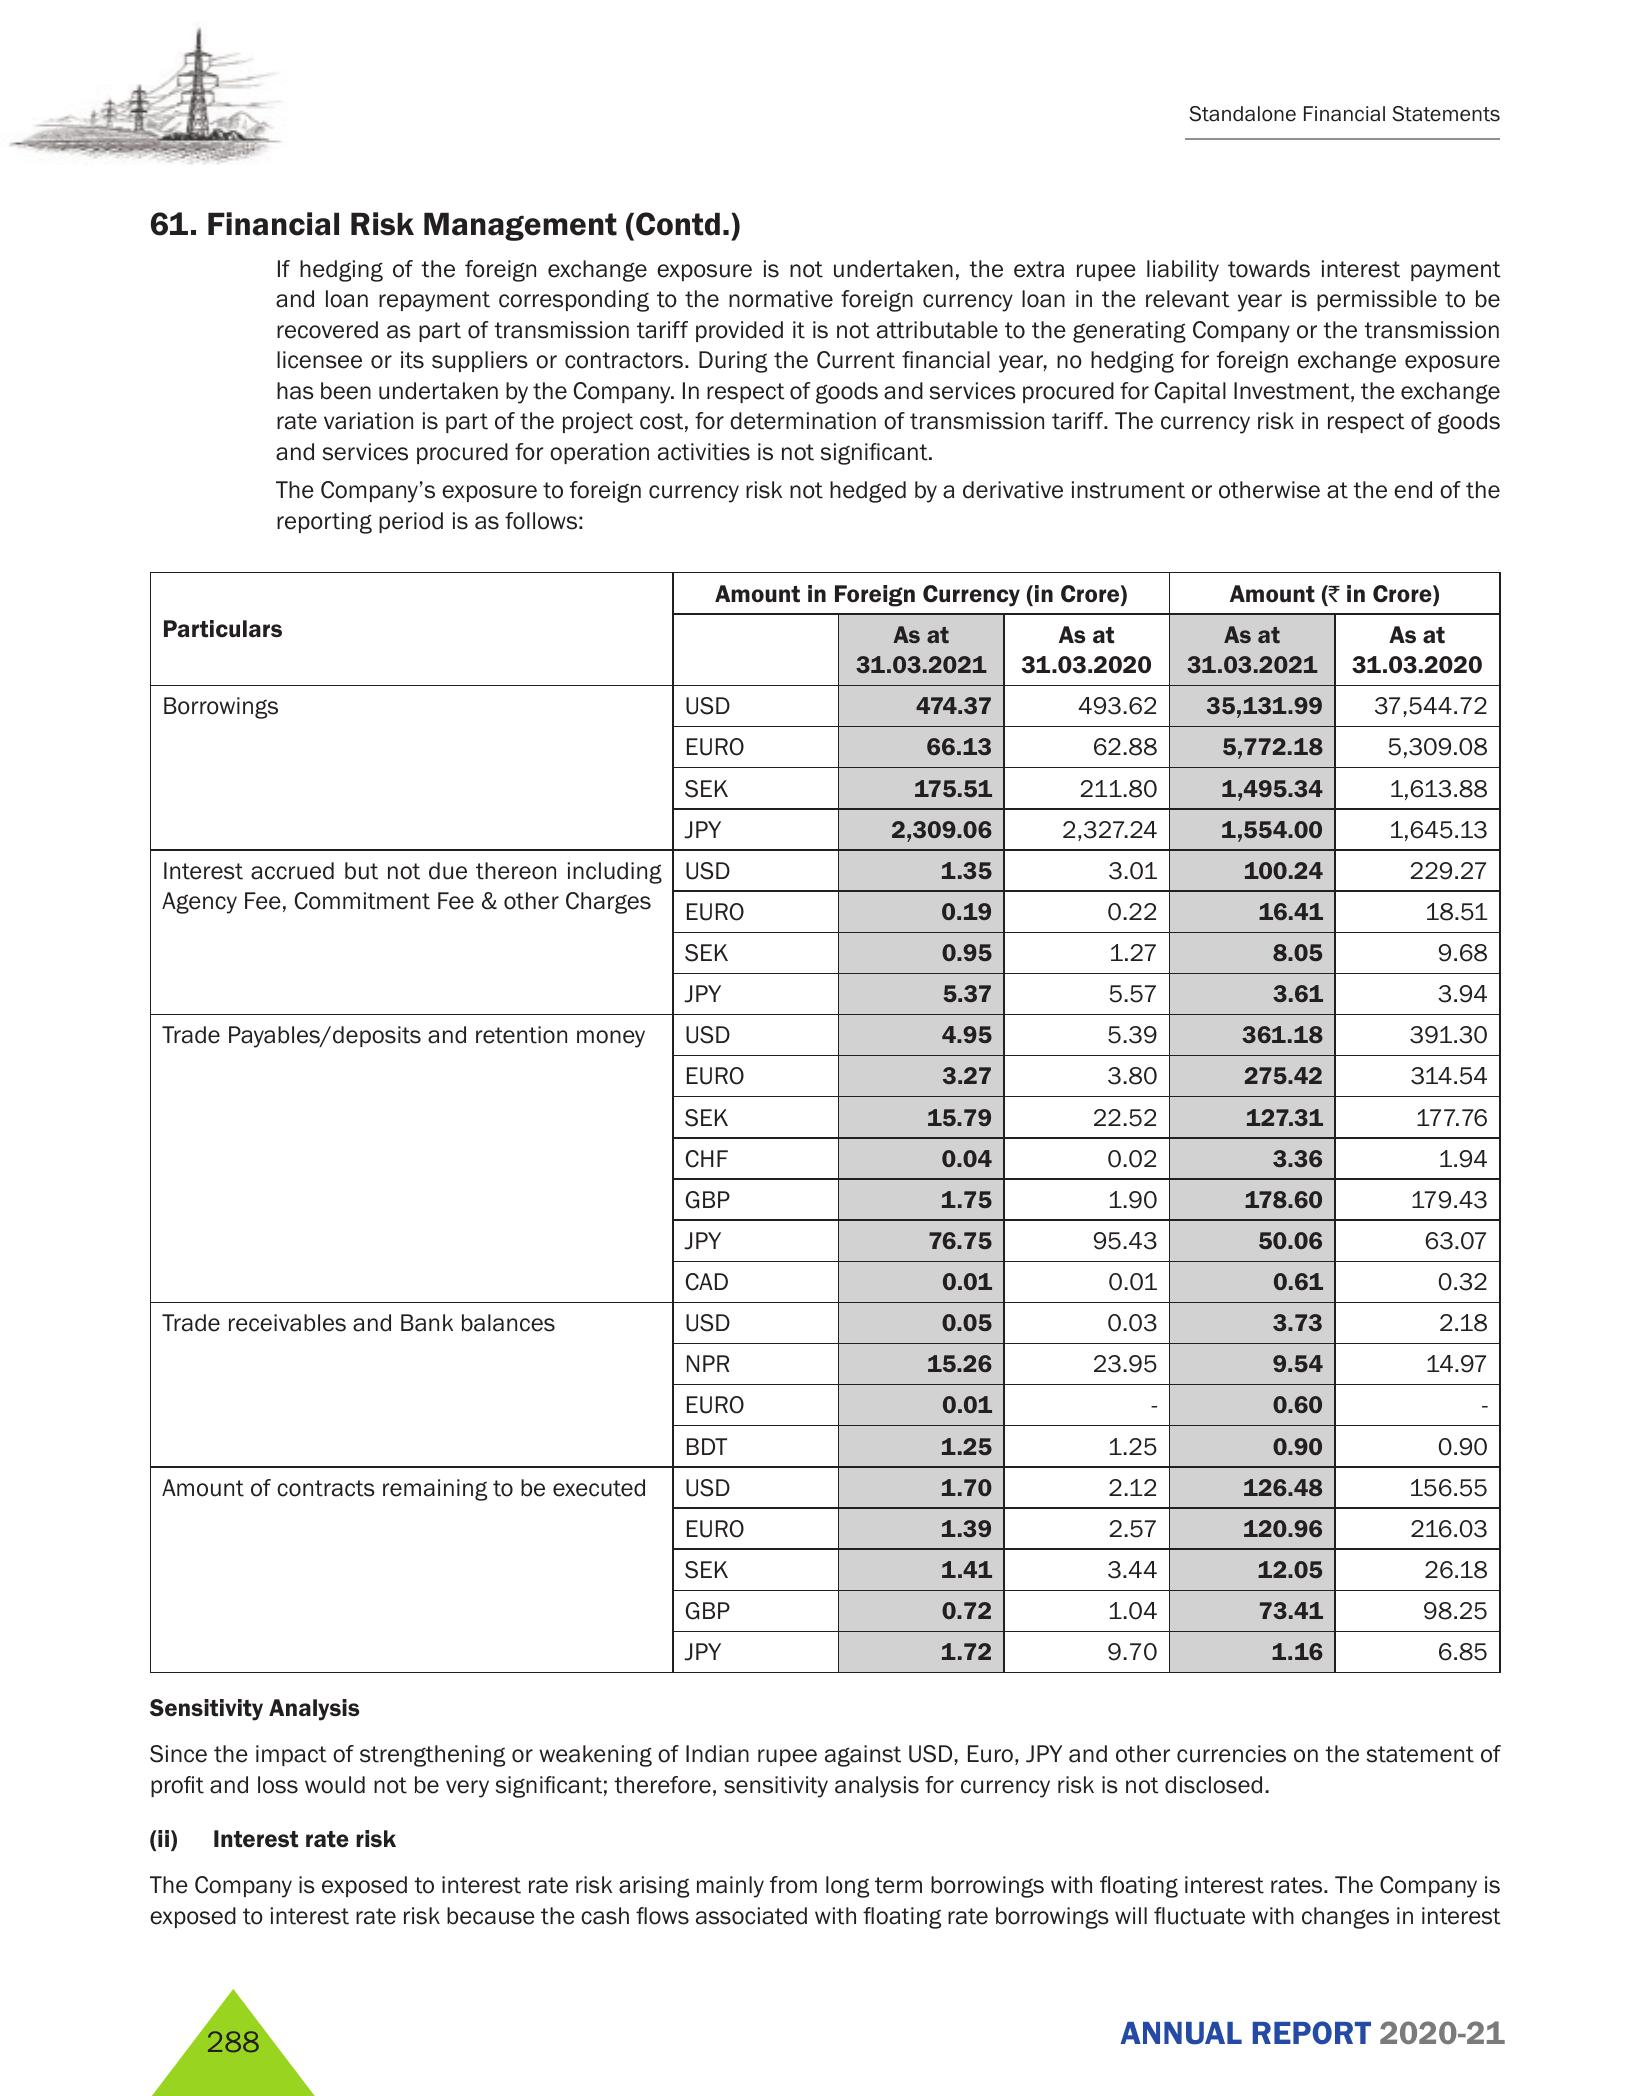Footer: (0, 1962, 1650, 2096)
Header: (0, 0, 1650, 175)
Table: (139, 560, 1499, 1676)
